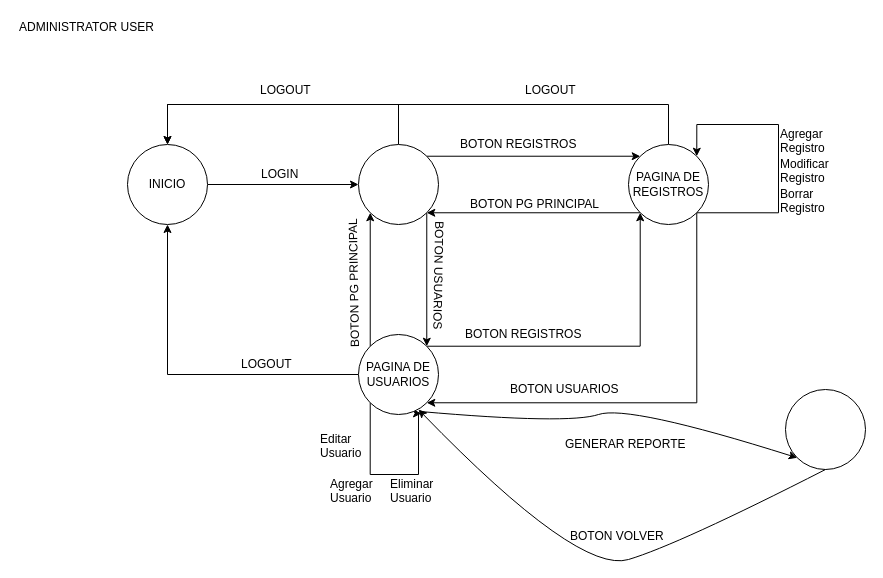
This 883x578 diagram has some shape labels left out. The centre of each missing label's shape, as x and y in pixels:
PAGINA DE REPORTE GENERADO: [825,429]
PAGINA PRINCIPAL DE ADMIN: [398,184]
